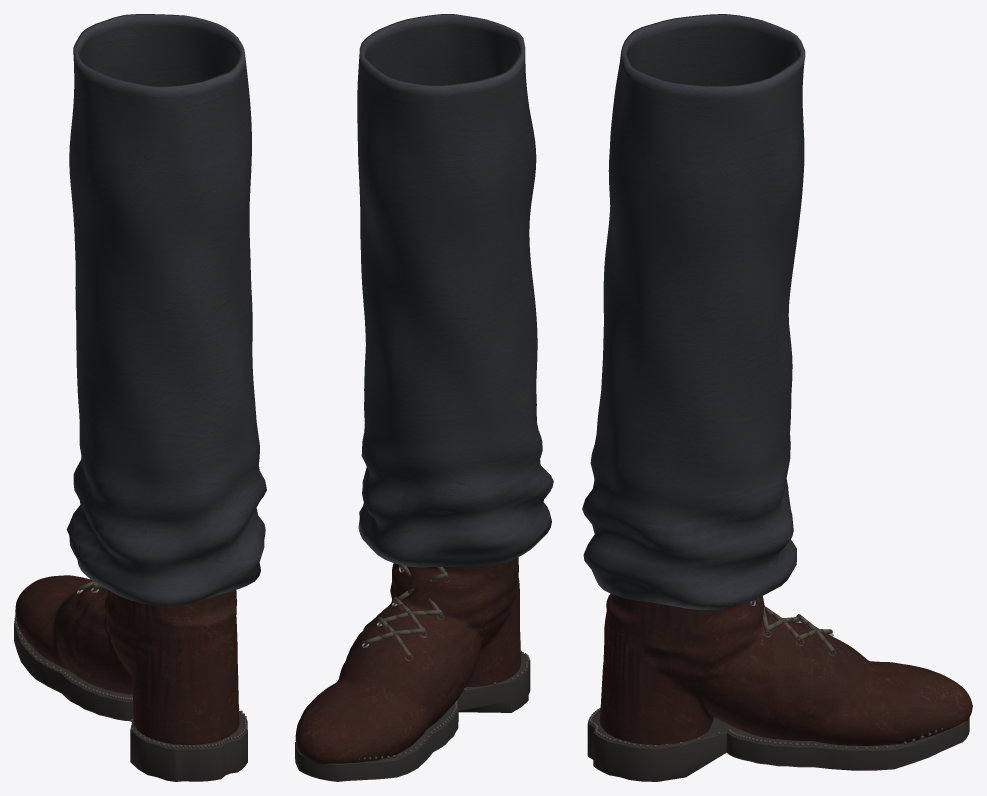
Rendered from boot.glb.
The picture shows the model from 3 angles, left to right: view 1: azimuth 30°, elevation 25°; view 2: azimuth 150°, elevation 25°; view 3: azimuth 270°, elevation 25°; orthographic projection. The views are drawn at different scales.
Parts seen in each view (by area): view 1: Trouser, Boot; view 2: Trouser, Boot; view 3: Trouser, Boot.
Part boxes in pixels (x1,y1,x2,y2): Trouser: (66,14,266,605); Boot: (14,575,247,781); Trouser: (357,14,553,567); Boot: (295,557,530,781); Trouser: (582,14,805,609); Boot: (587,594,972,781).
Size of the model in its own units: 0.1621 by 0.6205 by 0.3115.
Materials: 5 (2 with a texture image).
